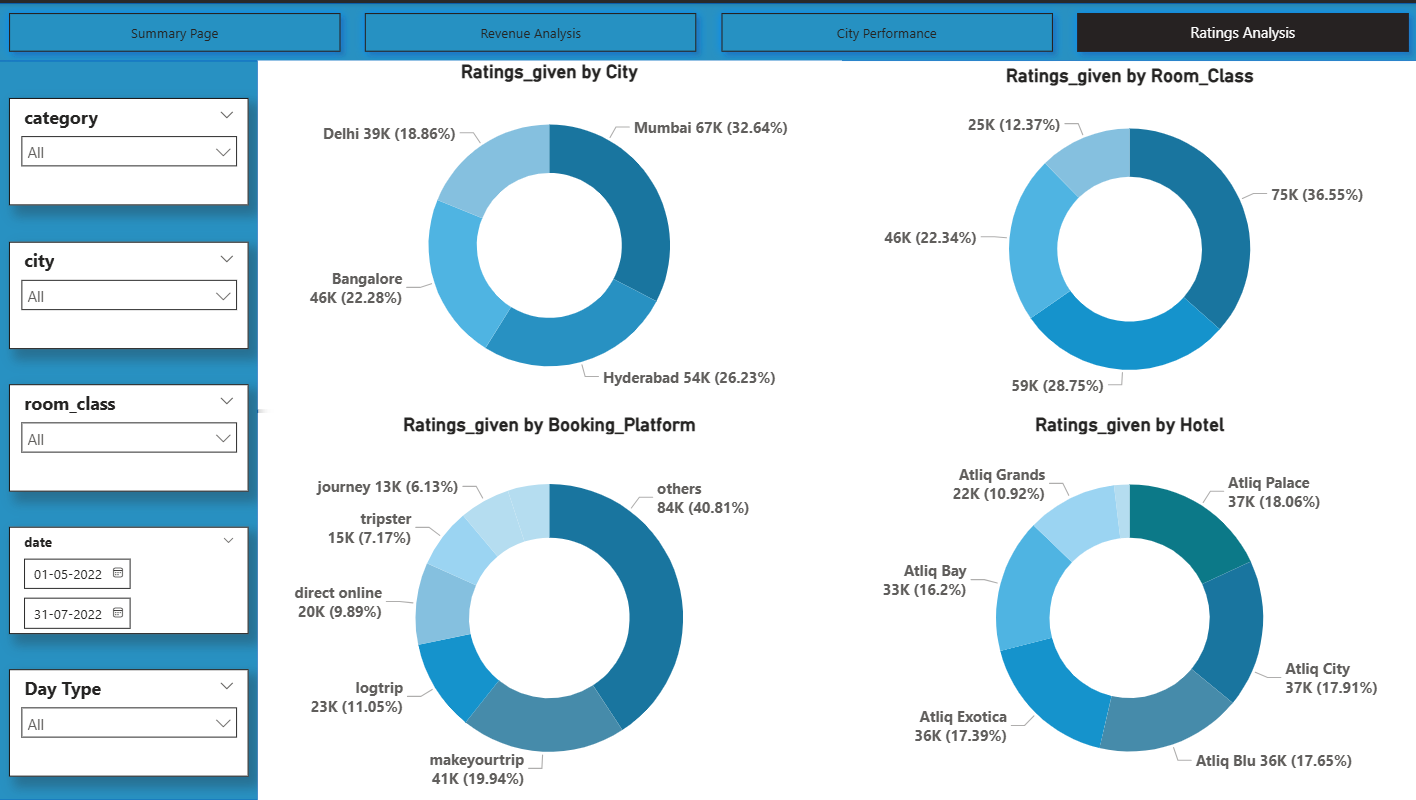

What the dashboard file says about the page in this screenshot:
{"tool":"powerbi","page":{"name":"Ratings Analysis","canvas":[1280,720],"ordinal":3},"visuals":[{"type":"shape","box":[0,0,1280.2,52.3],"z":0},{"type":"shape","box":[0,52.3,233.7,667.4],"z":1000},{"type":"slicer","fields":{"Values":["dim_hotels.category"]},"box":[9.3,86,216.3,96.5],"z":2000},{"type":"slicer","fields":{"Values":["dim_hotels.city"]},"box":[9.3,214.8,216.3,96.5],"z":3000},{"type":"slicer","fields":{"Values":["dim_rooms.room_class"]},"box":[9.3,343.6,216.3,96.5],"z":4000},{"type":"slicer","fields":{"Values":["dim_date.date"]},"box":[9.3,472.4,216.3,96.5],"z":5000},{"type":"slicer","fields":{"Values":["dim_date.day_type"]},"box":[9.3,601.2,216.3,96.5],"z":6000},{"type":"pageNavigator","box":[0,0,1280,53.5],"z":7000},{"type":"donutChart","title":"Ratings_given by City","fields":{"Y":["Sum(fact_bookings.ratings_given)"],"Category":["dim_hotels.city"]},"box":[233.9,52.2,526.2,314.7],"z":8000},{"type":"donutChart","title":"Ratings_given by Hotel","fields":{"Category":["dim_hotels.property_name"],"Y":["Sum(fact_bookings.ratings_given)"]},"box":[760.1,369.5,520,350.8],"z":9000},{"type":"donutChart","title":"Ratings_given by Room_Class","fields":{"Category":["dim_rooms.room_class"],"Y":["Sum(fact_bookings.ratings_given)"]},"box":[760.1,54.7,520,314.7],"z":10000},{"type":"donutChart","title":"Ratings_given by Booking_Platform","fields":{"Category":["fact_bookings.booking_platform"],"Y":["Sum(fact_bookings.ratings_given)"]},"box":[233.9,369.5,526.2,350.8],"z":11000}]}

Visuals, with their boxes in screenshot pixels (x1, y1, x2, y2), scaled from the page's 1280x720 canvas onto the 1416x800 screenshot:
shape: <bbox>0, 0, 1415, 58</bbox>
shape: <bbox>0, 58, 259, 799</bbox>
slicer - dim_hotels.category: <bbox>10, 96, 250, 203</bbox>
slicer - dim_hotels.city: <bbox>10, 239, 250, 346</bbox>
slicer - dim_rooms.room_class: <bbox>10, 382, 250, 489</bbox>
slicer - dim_date.date: <bbox>10, 525, 250, 632</bbox>
slicer - dim_date.day_type: <bbox>10, 668, 250, 775</bbox>
pageNavigator: <bbox>0, 0, 1415, 59</bbox>
"Ratings_given by City" donutChart: <bbox>259, 58, 841, 408</bbox>
"Ratings_given by Hotel" donutChart: <bbox>841, 411, 1415, 799</bbox>
"Ratings_given by Room_Class" donutChart: <bbox>841, 61, 1415, 410</bbox>
"Ratings_given by Booking_Platform" donutChart: <bbox>259, 411, 841, 799</bbox>
